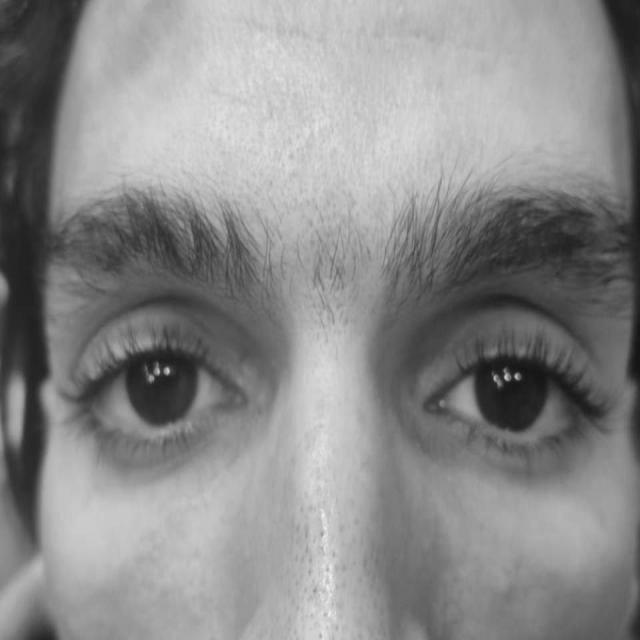real: (58, 231, 614, 507)
